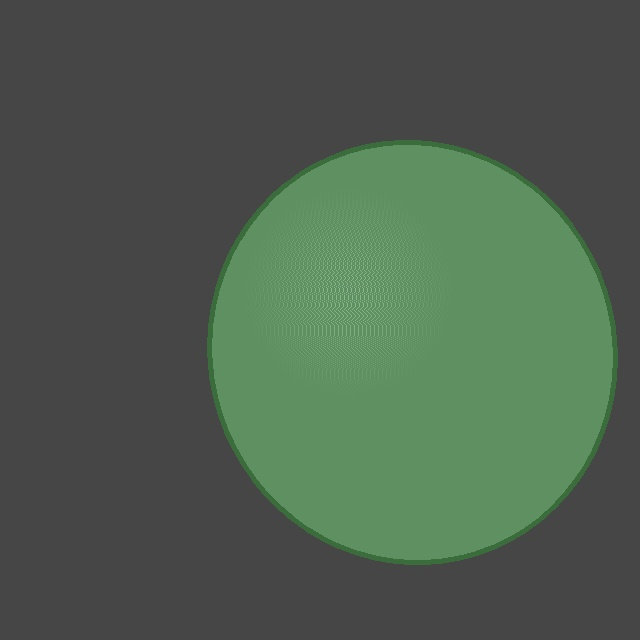lens: (210, 142, 614, 562)
